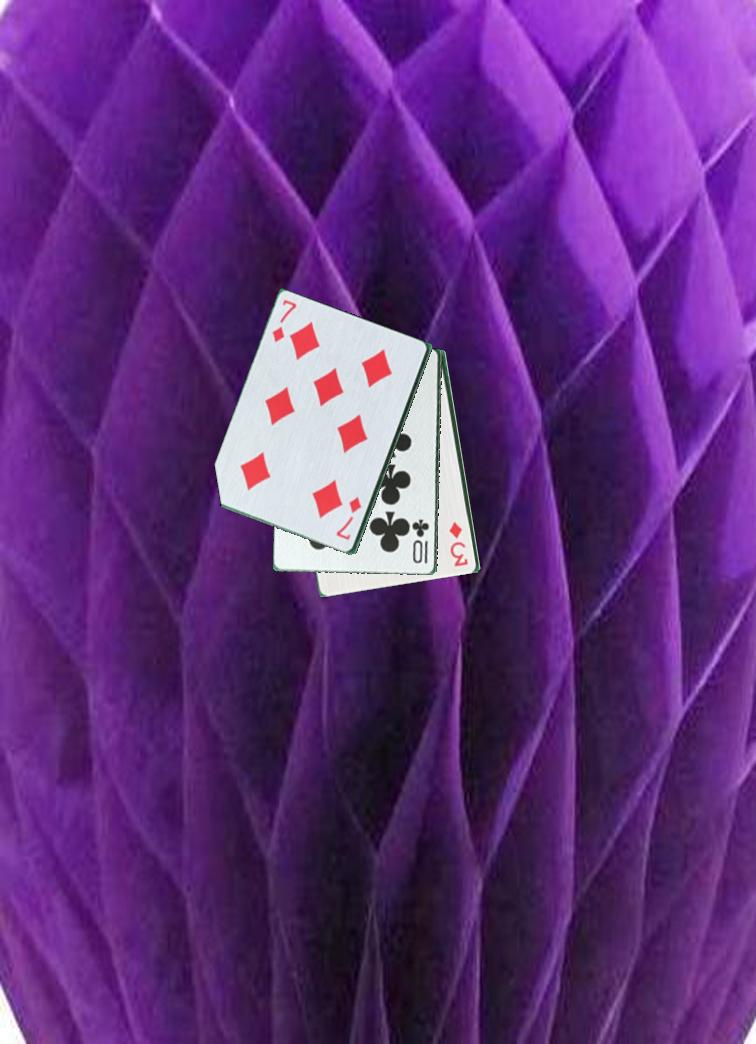3d: (447, 518, 471, 569)
7d: (265, 292, 300, 351), (334, 492, 365, 543)
tc: (410, 512, 432, 570)
